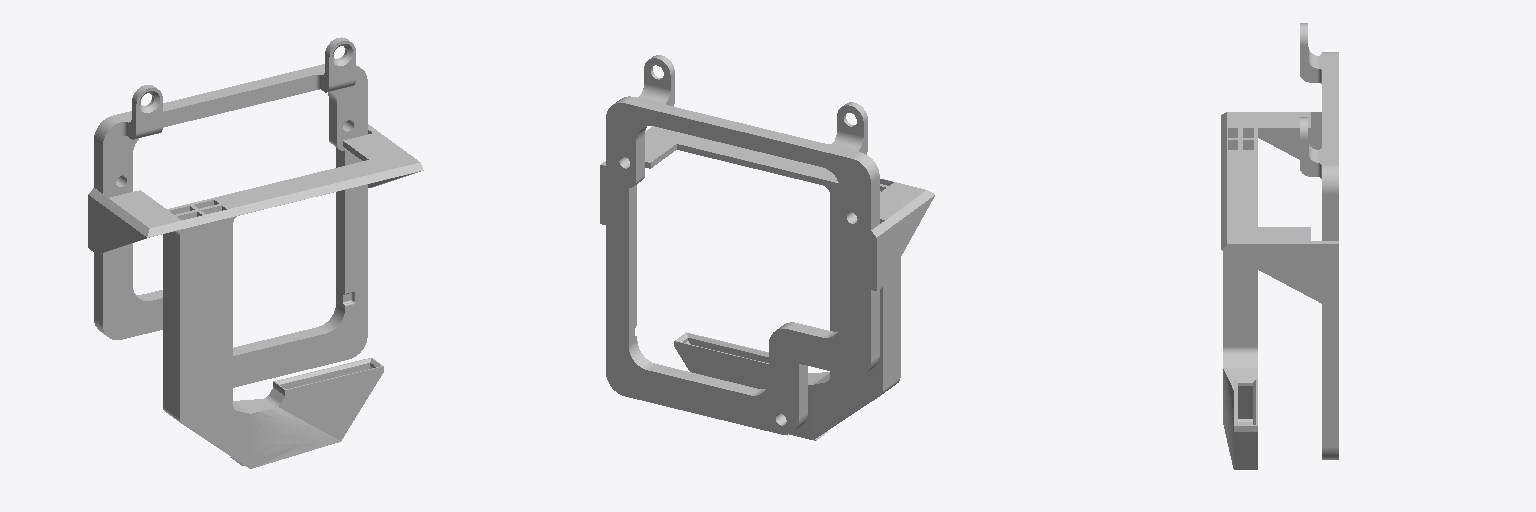
Rendered from Encaixe (Nova PM sensor) base.obj.
3 views of the same model, side by side, from view 1: azimuth 30°, elevation 25°; view 2: azimuth 150°, elevation 25°; view 3: azimuth 270°, elevation 25° (orthographic).
Size of the model in its own units: 73 by 93 by 27.